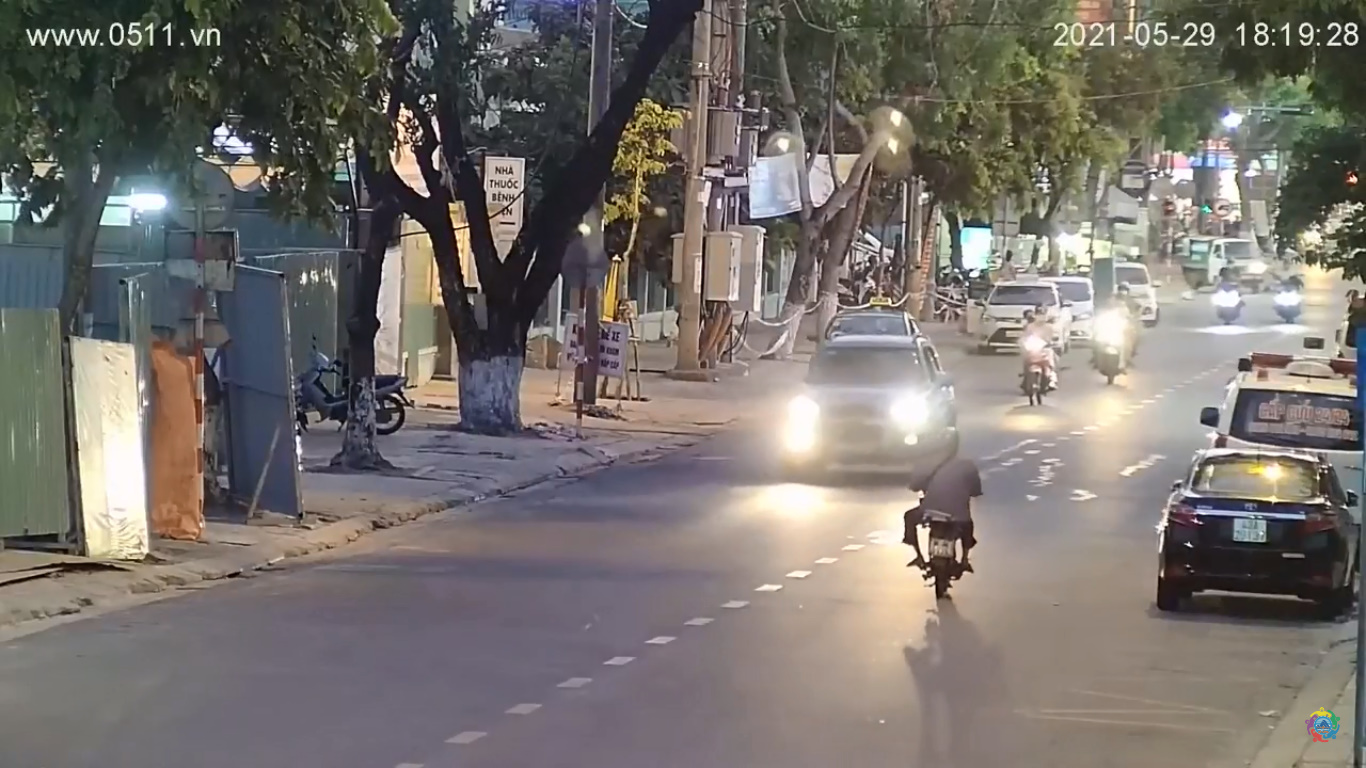car: (786, 332, 953, 475)
